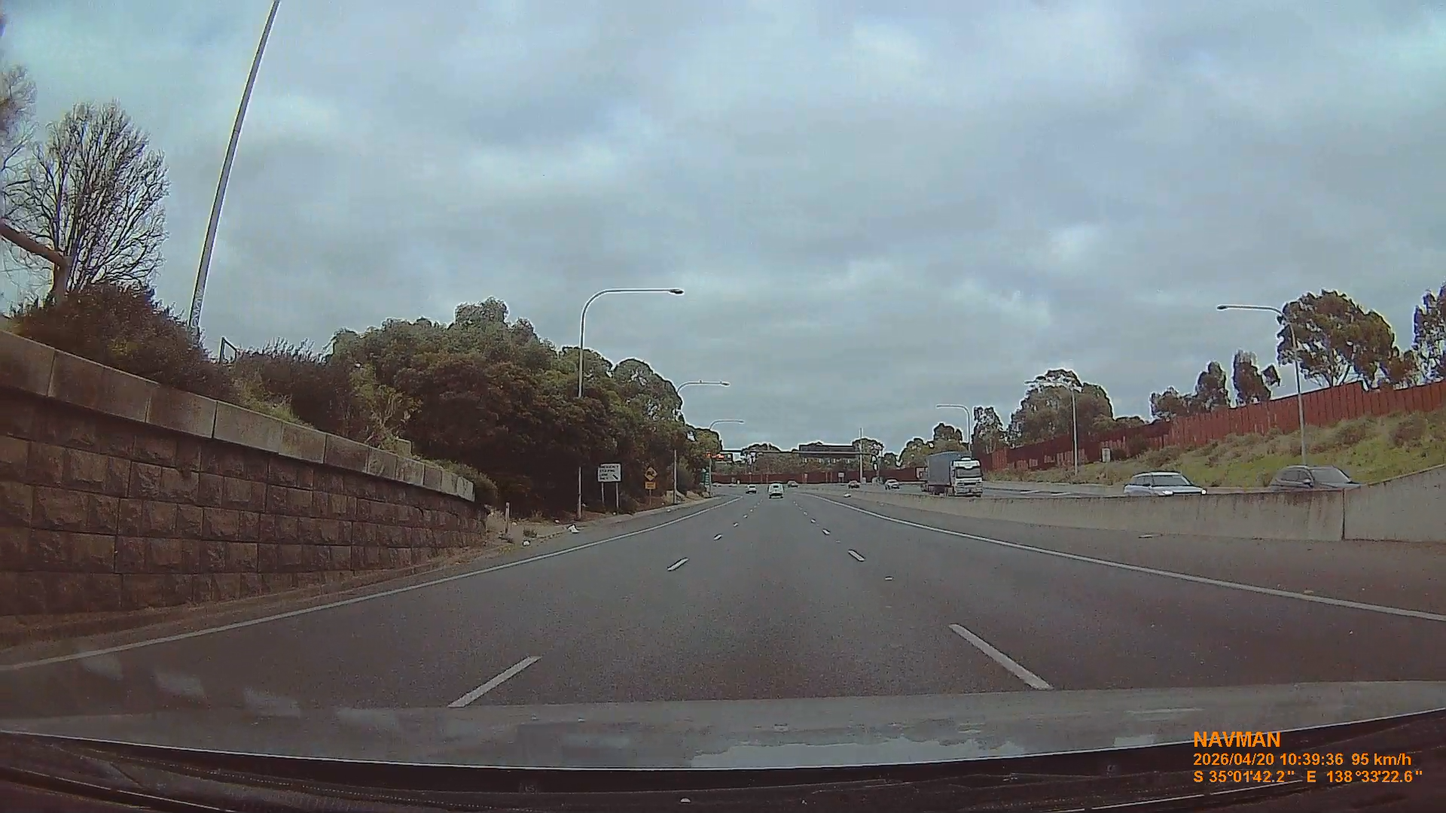road barriers: (882, 478, 1445, 548)
